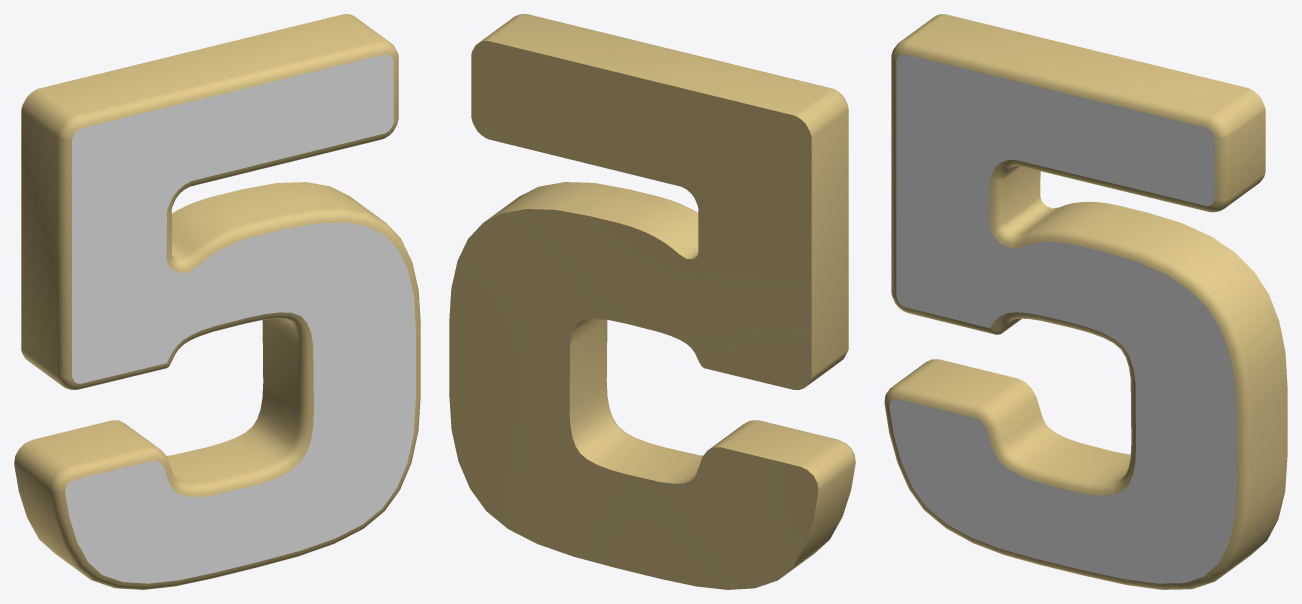
File: LettersLightUp02_5.FBX
The picture shows the model from 3 angles, left to right: view 1: azimuth 30°, elevation 25°; view 2: azimuth 150°, elevation 25°; view 3: azimuth 330°, elevation 25°; orthographic projection.
Visible parts, largest first — view 1: LettersLightUp02_5; view 2: LettersLightUp02_5; view 3: LettersLightUp02_5.
Boxes of the visible parts, box(x1,y1,x2,y2) form: LettersLightUp02_5: box(14, 14, 420, 589); LettersLightUp02_5: box(449, 14, 855, 589); LettersLightUp02_5: box(884, 14, 1287, 589).
Size of what is drawn, in the model's own units: 0.4674 by 0.5998 by 0.0912.
